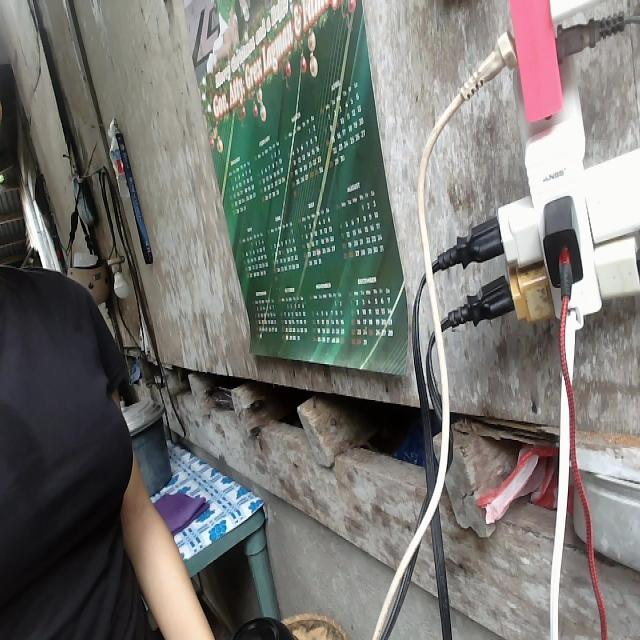-: (455, 0, 639, 361)
